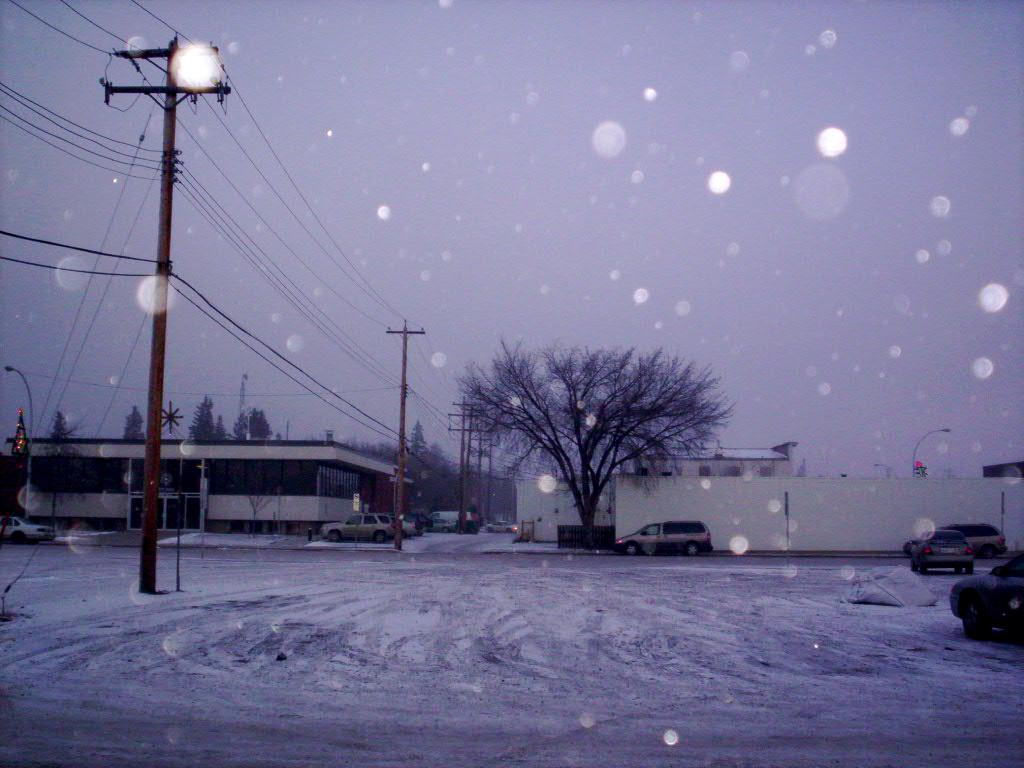car: (943, 551, 1024, 649), (903, 527, 978, 582), (616, 519, 719, 558), (318, 506, 400, 546), (938, 520, 1009, 562), (392, 510, 424, 538), (484, 518, 520, 539)
